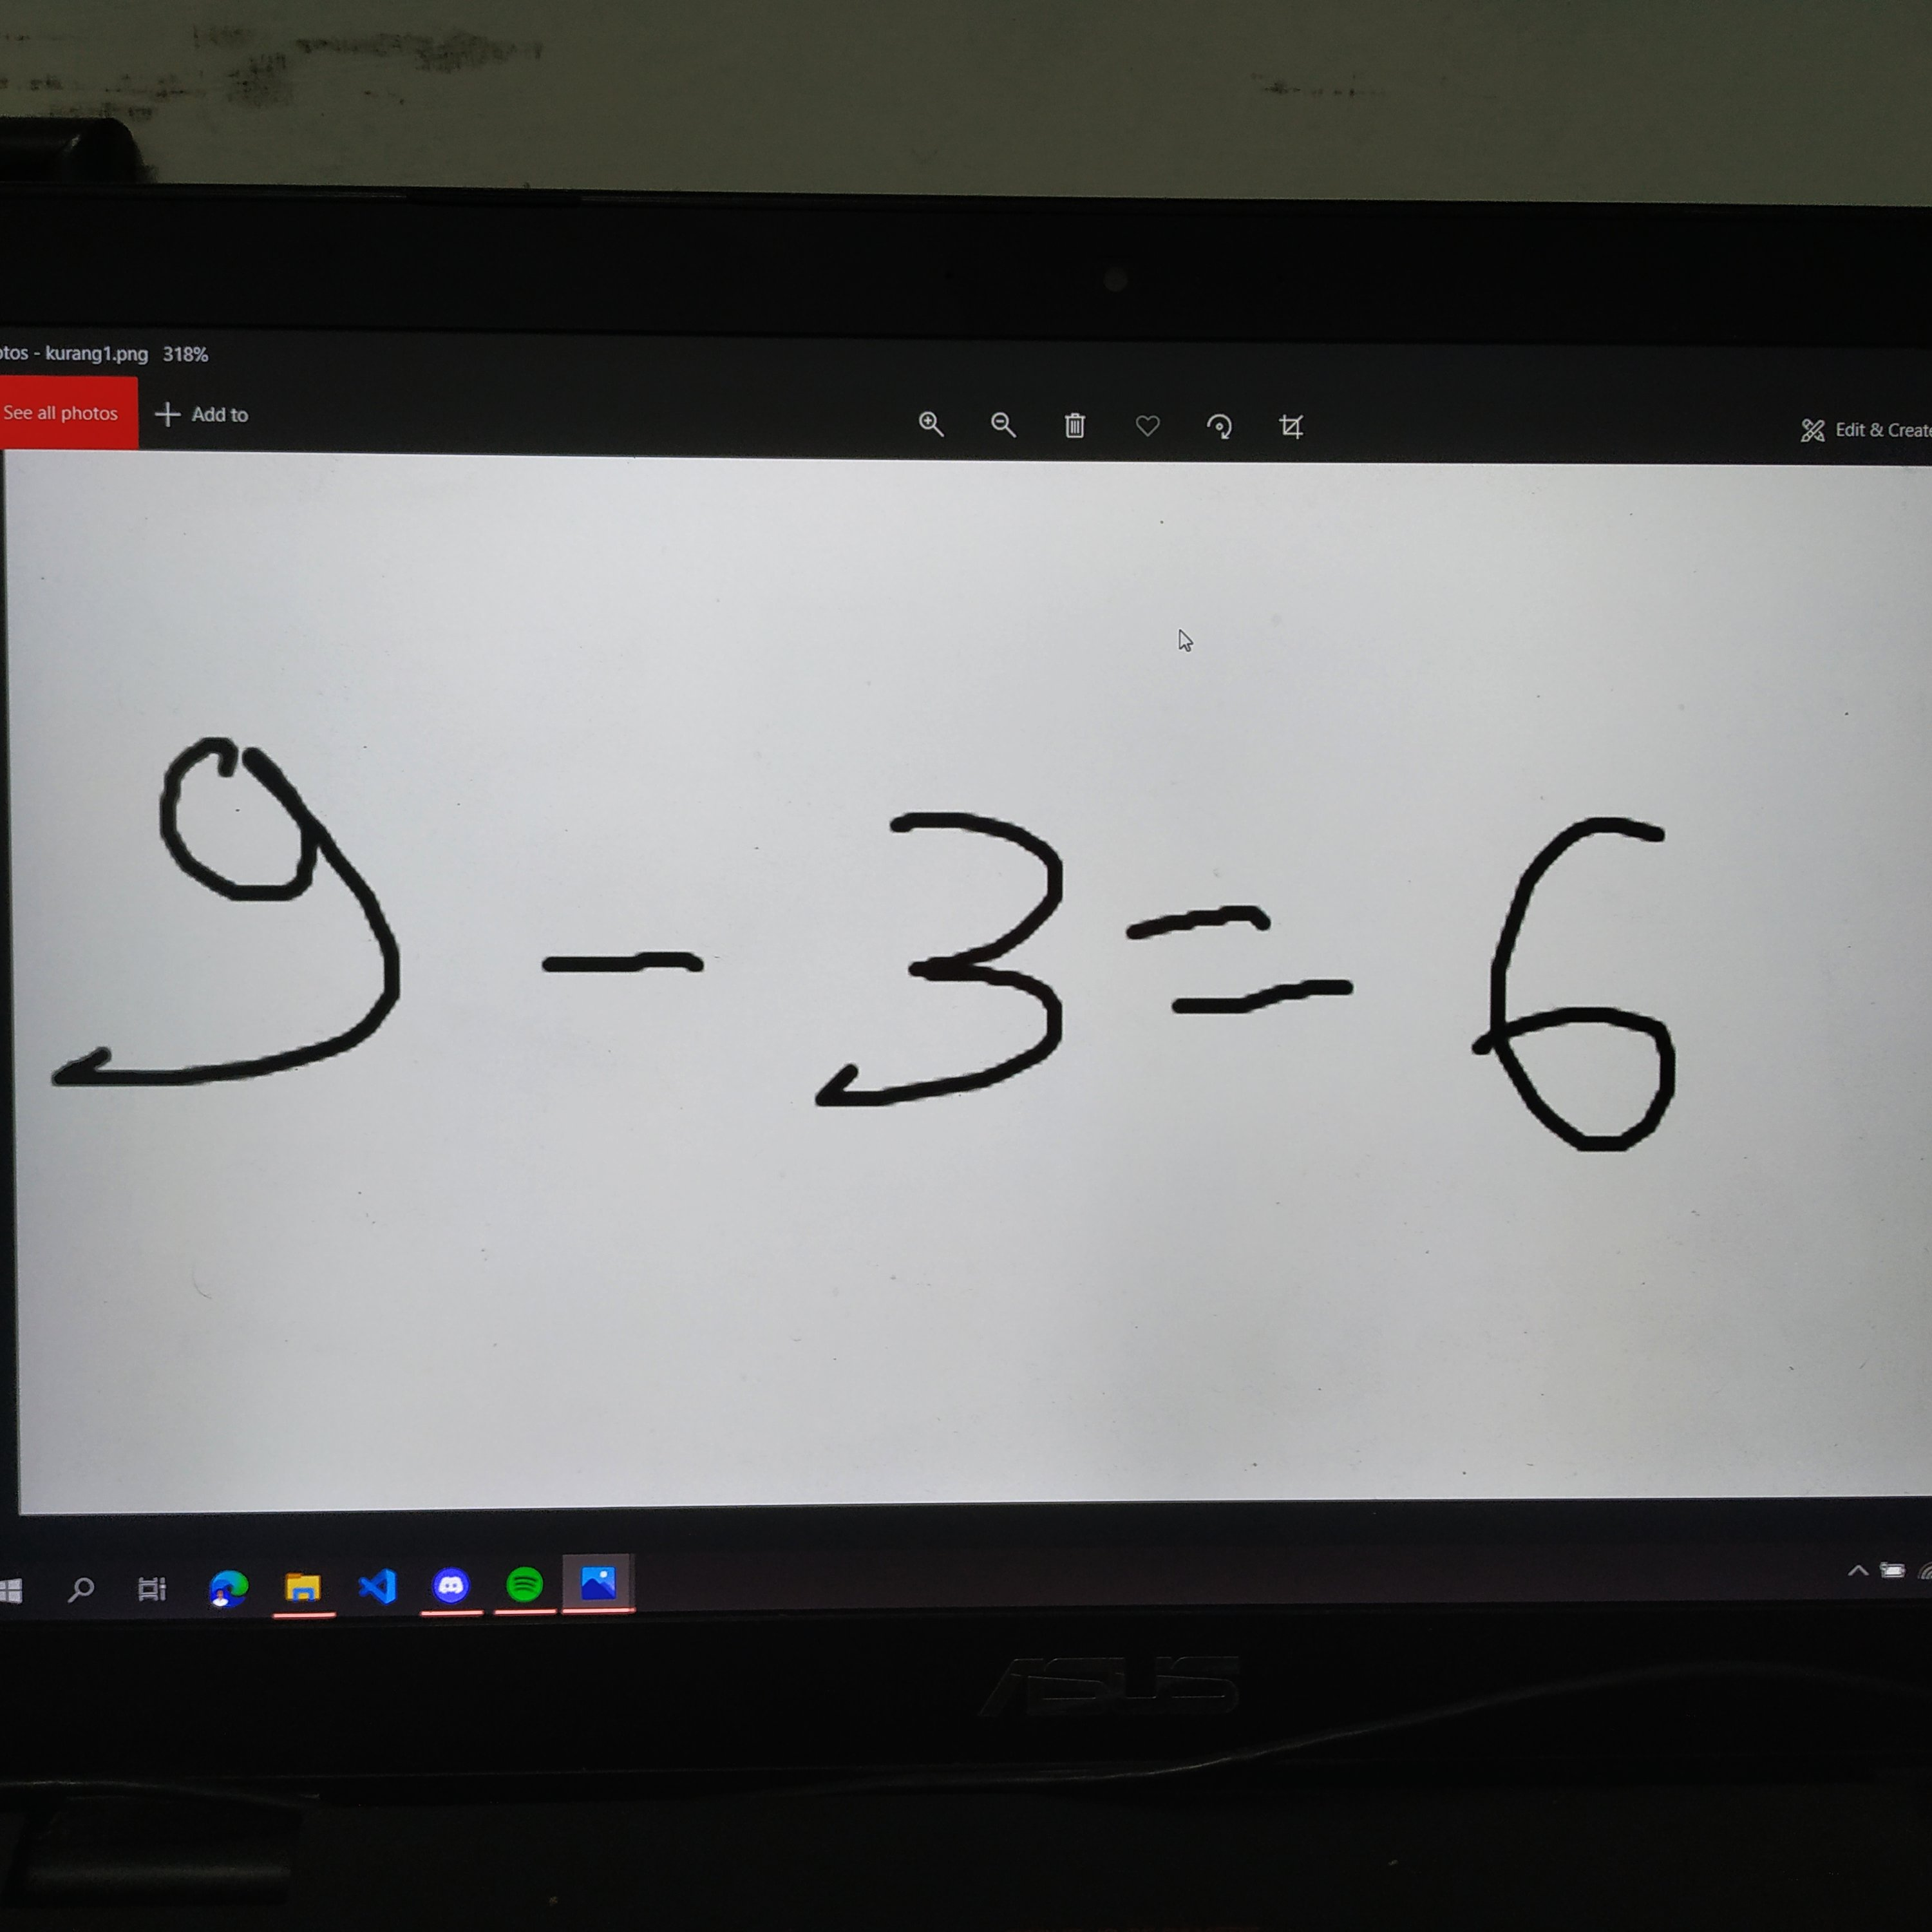equal: (1108, 891, 1384, 1030)
min: (520, 924, 742, 1012)
num3: (796, 785, 1097, 1136)
num6: (1469, 795, 1696, 1171)
num9: (30, 708, 462, 1113)
